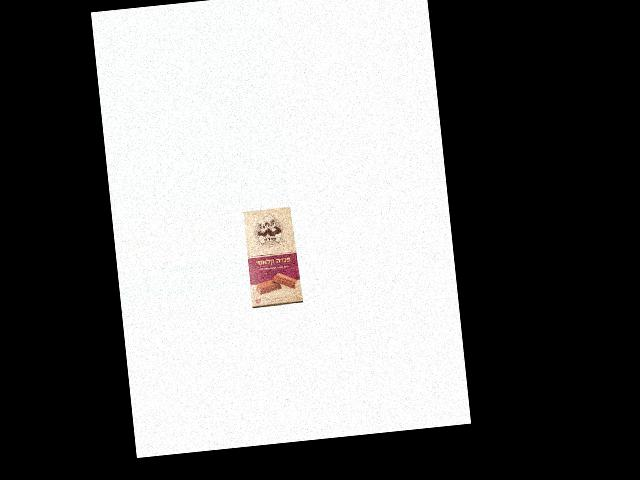chocolate: (244, 205, 304, 308)
